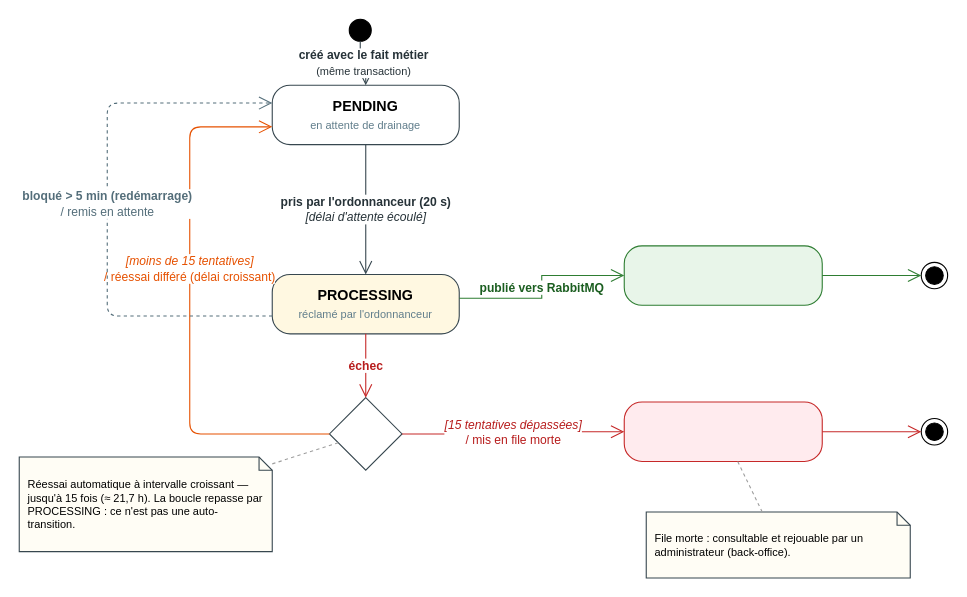
This 967x597 diagram has some shape labels left out. The shapes that lost their labels are listed below. From the top down, each one's centre as x and y in pixels, then its label:
At (x=722, y=275): "PROCESSED publié vers RabbitMQ".
At (x=722, y=431): "FAILED abandon après 15 tentatives".
